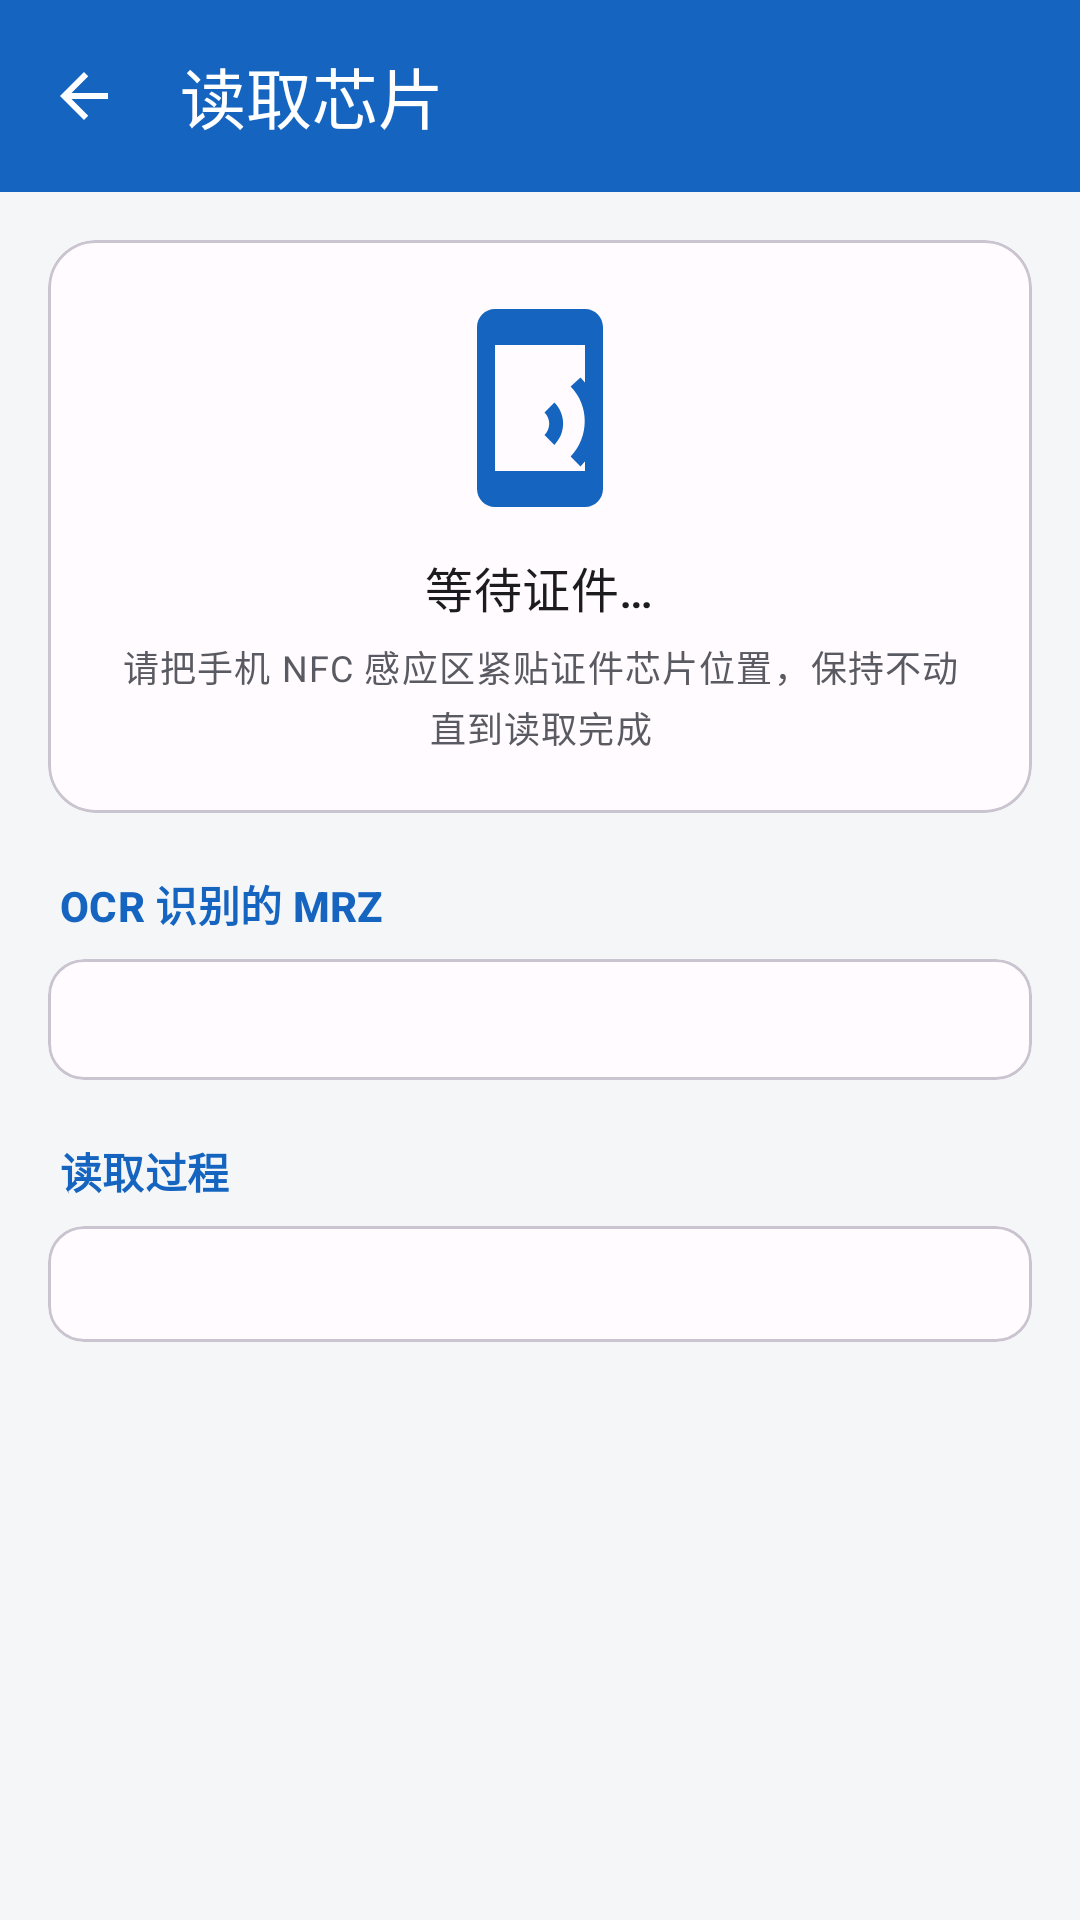

Icons on this 1080px x 1920px Android screen, each with its box as box(x1, y1, x2, y2):
nfc phone: box(477, 309, 603, 507)
